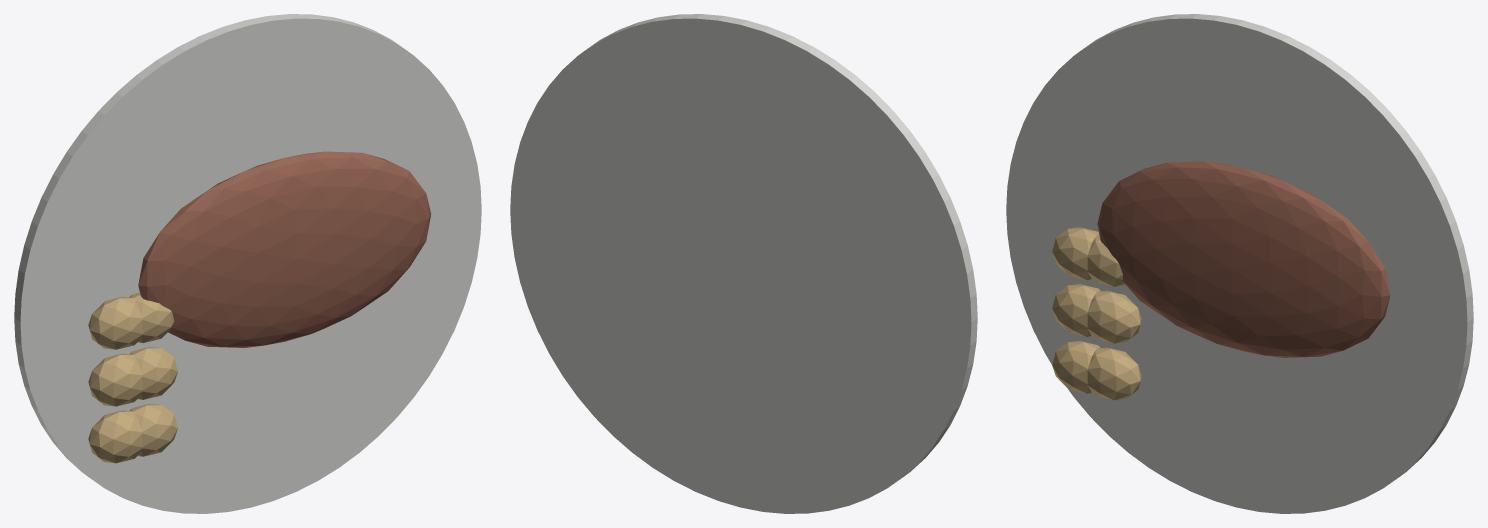
Rendered from bife-chorizo.glb.
3 renders of one model, left to right at view 1: azimuth 30°, elevation 25°; view 2: azimuth 150°, elevation 25°; view 3: azimuth 330°, elevation 25°, orthographic.
Visible parts, largest first — view 1: world; view 2: world; view 3: world.
Boxes of the visible parts, x1,y1,x2,y2 form: world: [14, 14, 481, 513]; world: [510, 14, 977, 513]; world: [1006, 14, 1473, 513].
Bounding box in the file's own units: 0.34 × 0.34 × 0.0412.
